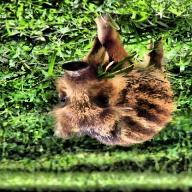boar: (34, 27, 182, 160)
